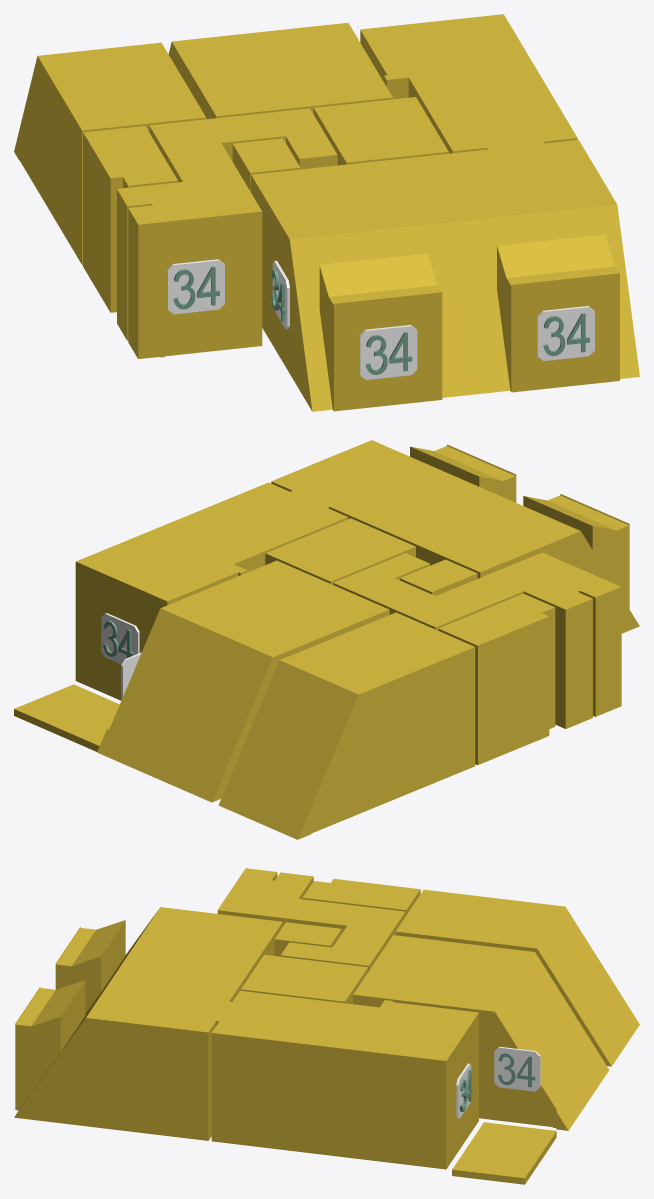
3 views of the same model, one above another, from view 1: azimuth 30°, elevation 25°; view 2: azimuth 150°, elevation 25°; view 3: azimuth 270°, elevation 25° (orthographic). The views are drawn at different scales.
Visible parts, largest first — view 1: g_6, g_4, g_5, g_2, g_1, g_0, g_3, g_14, g_11, g_26, g_7, g_17; view 2: g_2, g_1, g_6, g_5, g_4, g_0, g_3, g_8, g_7, g_20; view 3: g_6, g_5, g_1, g_2, g_4, g_8, g_3, g_0, g_23, g_7.
Boxes of the visible parts, x1=… form: g_6: x1=251, y1=140, x2=639, y2=411; g_4: x1=117, y1=108, x2=337, y2=358; g_5: x1=360, y1=14, x2=577, y2=153; g_2: x1=14, y1=42, x2=206, y2=264; g_1: x1=168, y1=22, x2=392, y2=119; g_0: x1=83, y1=126, x2=177, y2=312; g_3: x1=313, y1=97, x2=448, y2=165; g_14: x1=359, y1=325, x2=417, y2=379; g_11: x1=167, y1=259, x2=224, y2=314; g_26: x1=537, y1=306, x2=594, y2=360; g_7: x1=232, y1=138, x2=300, y2=191; g_17: x1=272, y1=260, x2=289, y2=329; g_2: x1=218, y1=612, x2=475, y2=839; g_1: x1=97, y1=560, x2=389, y2=802; g_6: x1=271, y1=440, x2=639, y2=633; g_5: x1=75, y1=482, x2=348, y2=700; g_4: x1=333, y1=552, x2=621, y2=728; g_0: x1=438, y1=593, x2=555, y2=764; g_3: x1=265, y1=518, x2=415, y2=584; g_8: x1=14, y1=684, x2=119, y2=751; g_7: x1=400, y1=559, x2=477, y2=595; g_20: x1=101, y1=613, x2=139, y2=664; g_6: x1=14, y1=907, x2=282, y2=1140; g_5: x1=211, y1=990, x2=478, y2=1169; g_1: x1=353, y1=935, x2=609, y2=1130; g_2: x1=395, y1=889, x2=639, y2=1066; g_4: x1=217, y1=868, x2=405, y2=971; g_8: x1=452, y1=1122, x2=556, y2=1184; g_3: x1=241, y1=954, x2=368, y2=1004; g_0: x1=302, y1=878, x2=420, y2=915; g_23: x1=494, y1=1046, x2=540, y2=1091; g_7: x1=274, y1=922, x2=341, y2=956.
Bounding box in the file's own units: 10.12 × 2.71 × 13.31.
